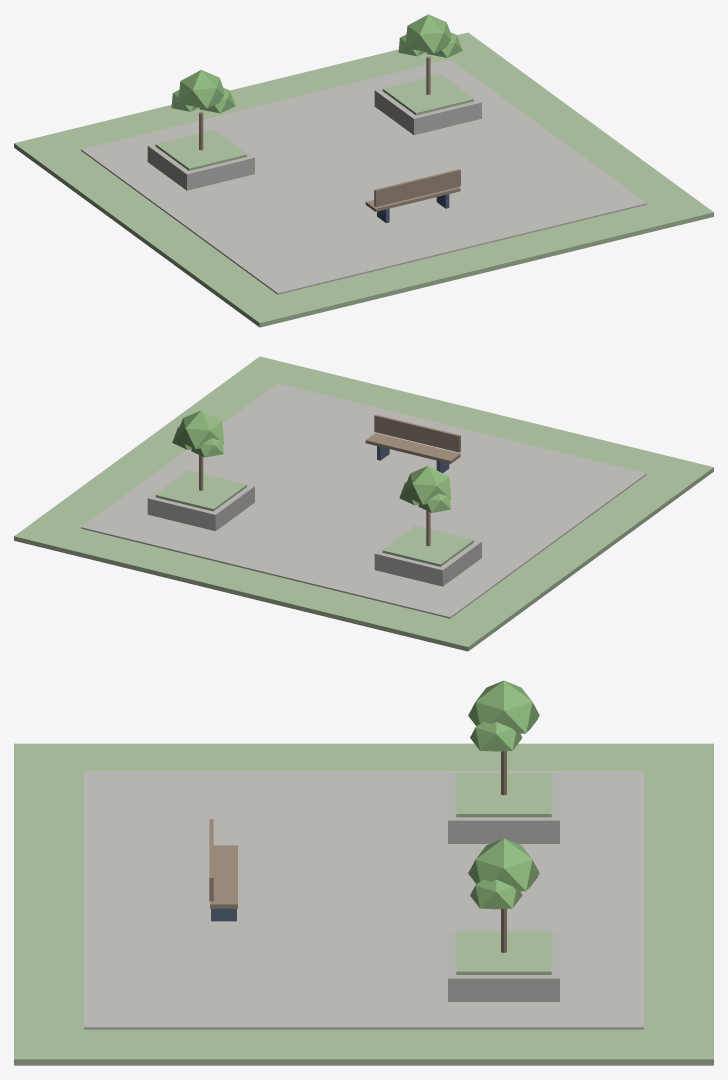
Rendered from 16_parks_greenery-01.glb.
3 views of the same model, one above another, from view 1: azimuth 30°, elevation 25°; view 2: azimuth 150°, elevation 25°; view 3: azimuth 270°, elevation 25° (orthographic). The views are drawn at different scales.
Bounding box in the file's own units: 16 × 3.51 × 15.
